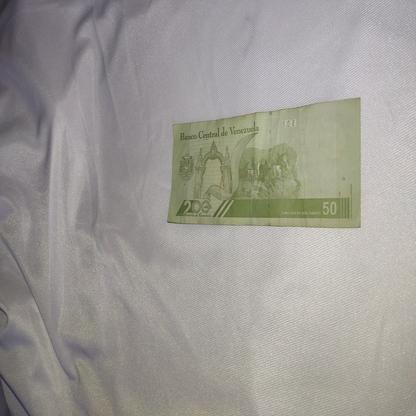fifty-back-vef: (167, 98, 361, 228)
